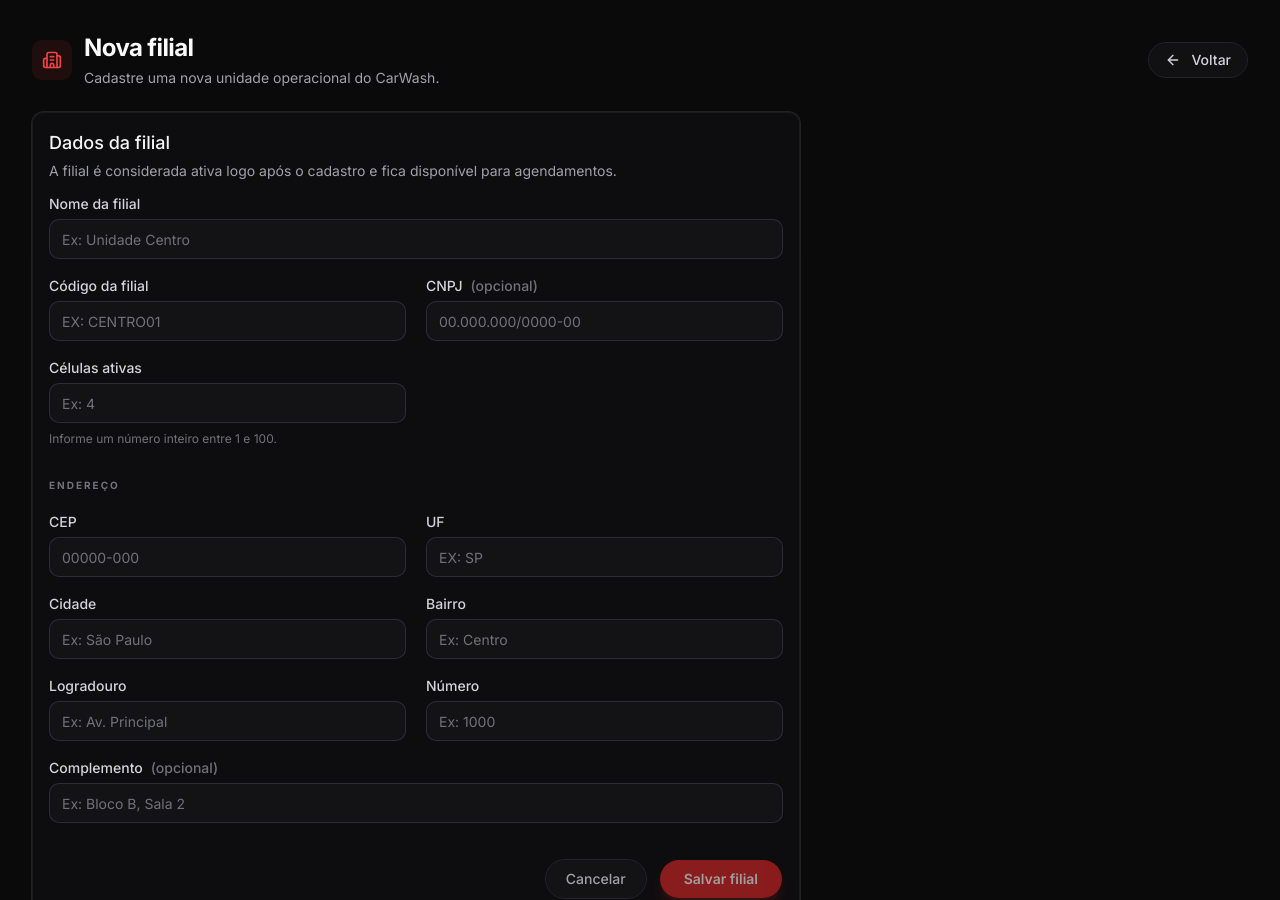
Test: FilialFormPage (RF017/RF018) › bloqueia caracteres não inteiros no campo de células ativas (e, +, -, ., ,)
Type "1e2E.3+-," into the field labelled "Células ativas" at coordinates (228, 403), box [49,383,406,423]
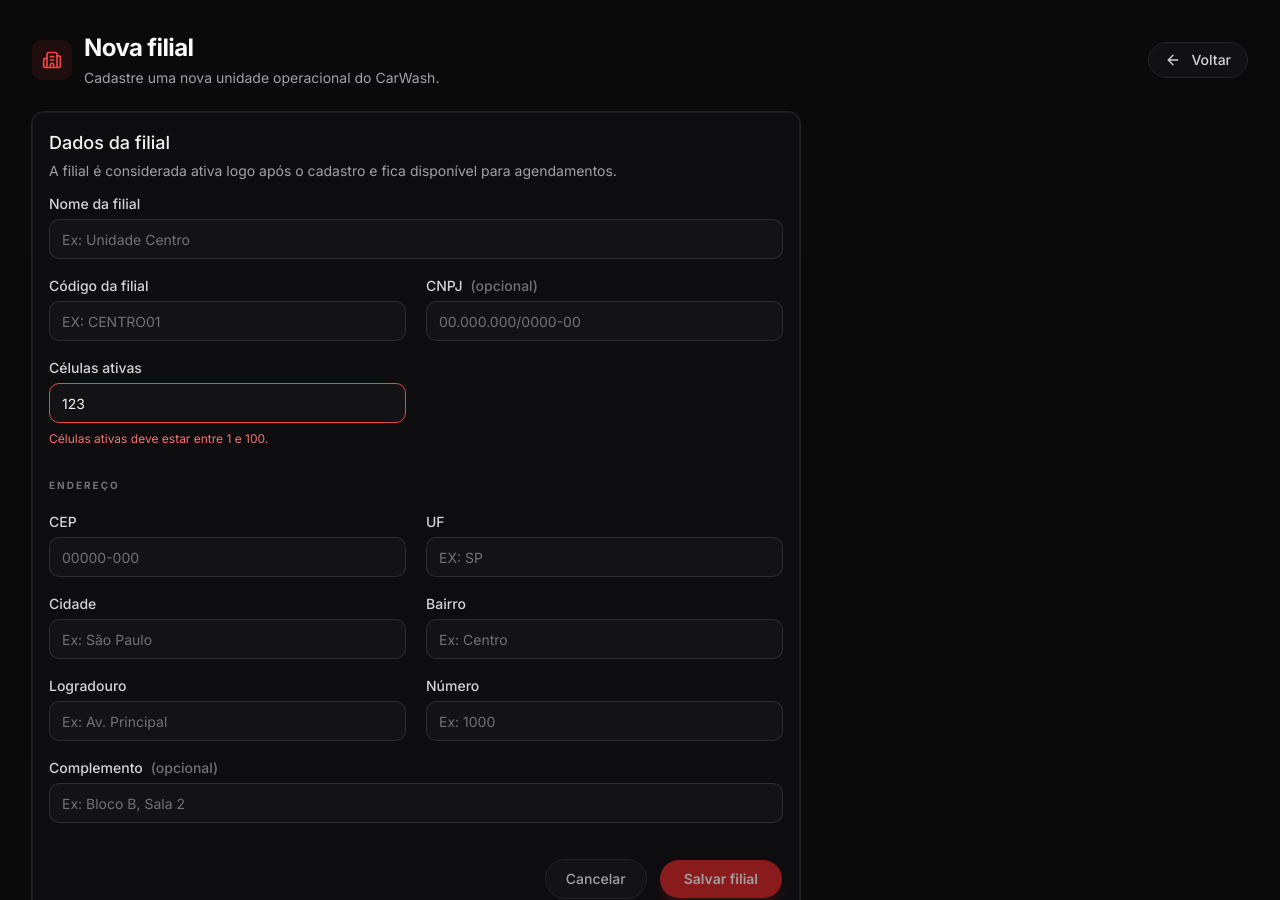
expect the field labelled "Células ativas" holds "123": met, box [49,383,406,423]
